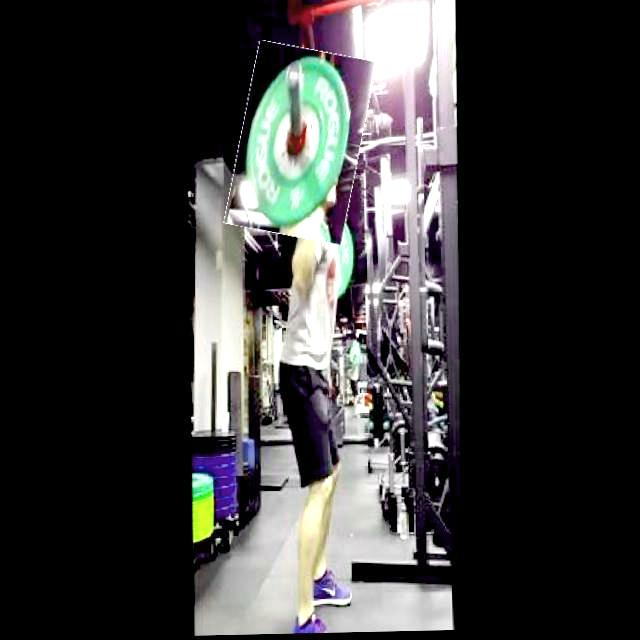barbell: (231, 45, 370, 243)
